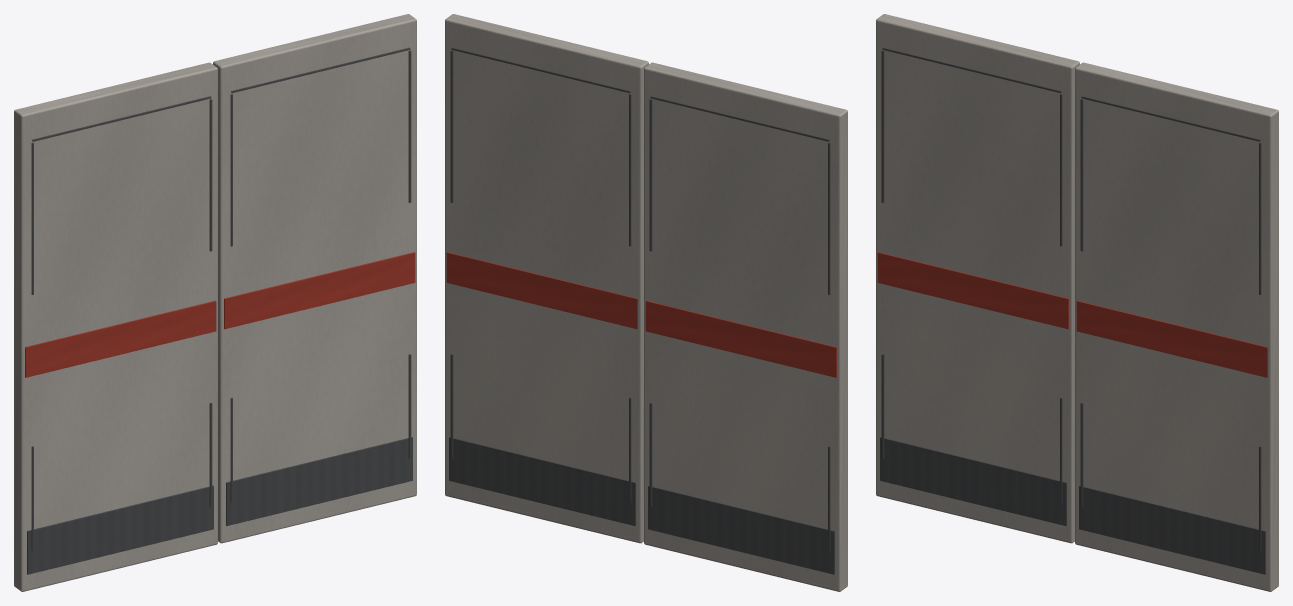
File: elevator_door.glb
The picture shows the model from 3 angles, left to right: view 1: azimuth 30°, elevation 25°; view 2: azimuth 150°, elevation 25°; view 3: azimuth 330°, elevation 25°; orthographic projection.
Visible parts, largest first — view 1: door_leaf.006, door_leaf.007, kick_plate.008, kick_plate.010, red_stripe.012, red_stripe.010, edge_reveal.043, edge_reveal.035, panel_reveal.010, panel_reveal.008; view 2: door_leaf.006, door_leaf.007, kick_plate.009, kick_plate.011, red_stripe.013, red_stripe.011, edge_reveal.047, edge_reveal.039, panel_reveal.011, panel_reveal.009; view 3: door_leaf.007, door_leaf.006, kick_plate.010, kick_plate.008, red_stripe.010, red_stripe.012, edge_reveal.033, edge_reveal.041, panel_reveal.008, panel_reveal.010.
Boxes of the visible parts, x1,y1,x2,y2 form: door_leaf.006: (14, 62, 217, 591); door_leaf.007: (213, 14, 416, 543); kick_plate.008: (27, 485, 213, 574); kick_plate.010: (226, 437, 412, 525); red_stripe.012: (224, 252, 415, 329); red_stripe.010: (25, 300, 216, 377); edge_reveal.043: (408, 50, 411, 202); edge_reveal.035: (209, 99, 212, 251); panel_reveal.010: (231, 47, 410, 93); panel_reveal.008: (32, 96, 211, 141); door_leaf.006: (644, 62, 847, 591); door_leaf.007: (445, 14, 648, 543); kick_plate.009: (648, 485, 834, 574); kick_plate.011: (449, 437, 635, 525); red_stripe.013: (446, 252, 637, 329); red_stripe.011: (645, 300, 836, 377); edge_reveal.047: (450, 50, 453, 202); edge_reveal.039: (649, 99, 652, 251); panel_reveal.011: (451, 47, 630, 93); panel_reveal.009: (650, 96, 829, 141); door_leaf.007: (1075, 62, 1278, 591); door_leaf.006: (876, 14, 1079, 543); kick_plate.010: (1079, 485, 1265, 574); kick_plate.008: (880, 437, 1066, 525); red_stripe.010: (877, 252, 1068, 329); red_stripe.012: (1076, 300, 1267, 377); edge_reveal.033: (881, 50, 884, 202); edge_reveal.041: (1080, 99, 1083, 251); panel_reveal.008: (882, 47, 1061, 93); panel_reveal.010: (1081, 96, 1260, 141).
Bounding box in the file's own units: 1.91 × 2.2 × 0.104.
Materials: 3 (3 with a texture image).
